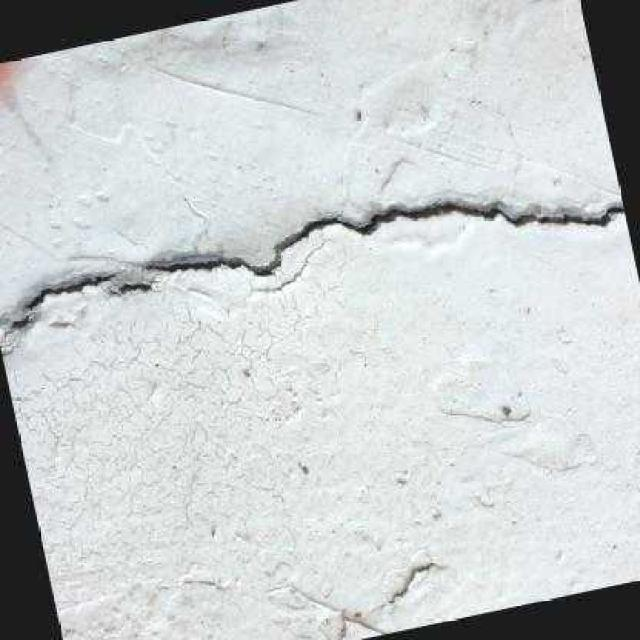D00: (145, 198, 624, 276), (7, 270, 111, 330), (117, 279, 149, 295)
